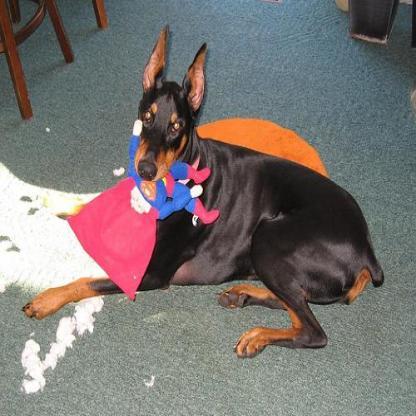Doberman: (21, 24, 384, 357)
